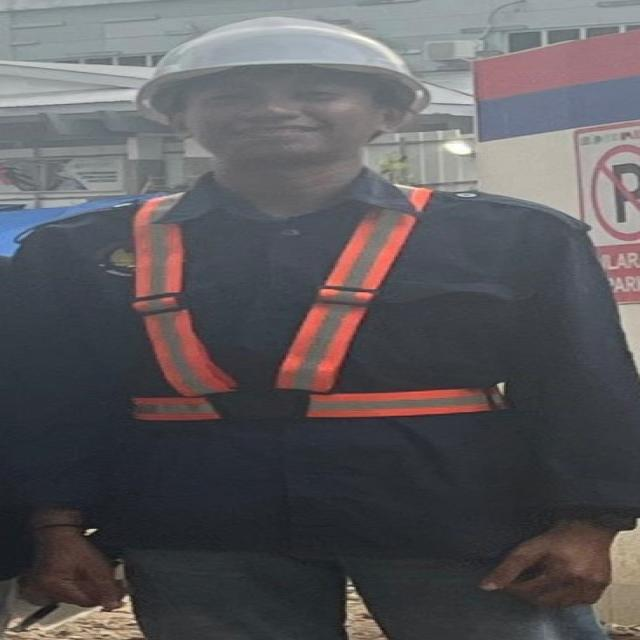safetyhelmet: (140, 9, 446, 155)
